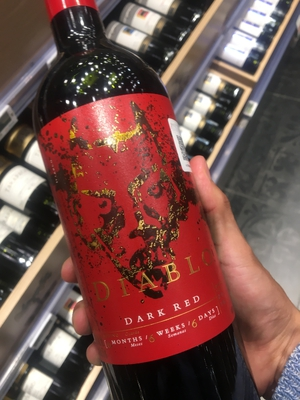diablo dark red: (24, 30, 252, 400)
